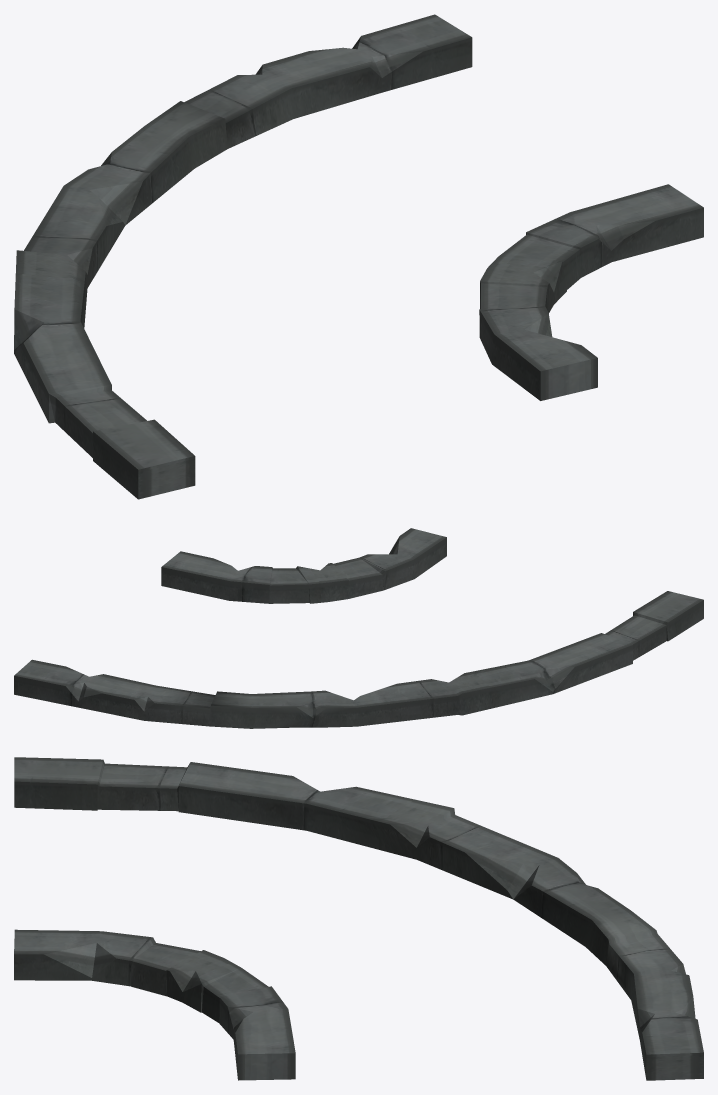
Rendered from sewer_road002_brick.FBX.
The picture shows the model from 3 angles, top to bottom: view 1: azimuth 30°, elevation 25°; view 2: azimuth 150°, elevation 25°; view 3: azimuth 270°, elevation 25°; orthographic projection. The views are drawn at different scales.
Parts seen in each view (by area): view 1: sewer_road002_brick; view 2: sewer_road002_brick; view 3: sewer_road002_brick.
Part boxes in pixels (box(x1,y1,x2,y2)): sewer_road002_brick: box(14, 14, 703, 499); sewer_road002_brick: box(14, 528, 703, 728); sewer_road002_brick: box(14, 757, 703, 1080).
Bounding box in the file's own units: 1417 × 67.74 × 1389.
